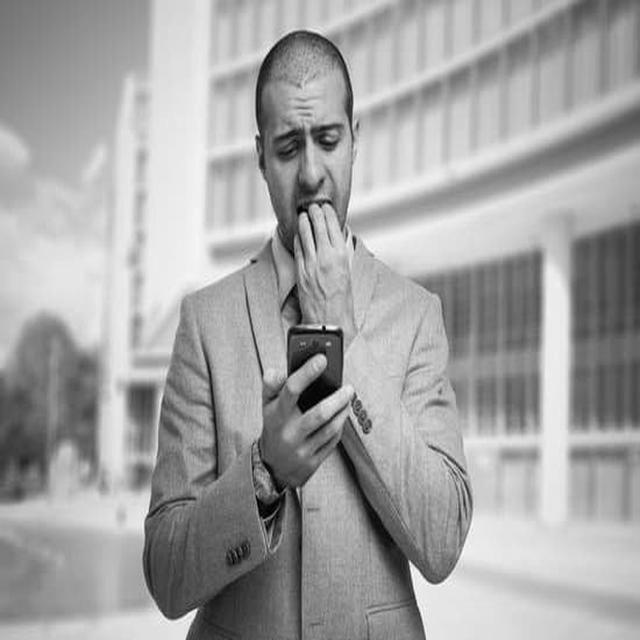Fear: (261, 74, 352, 246)
